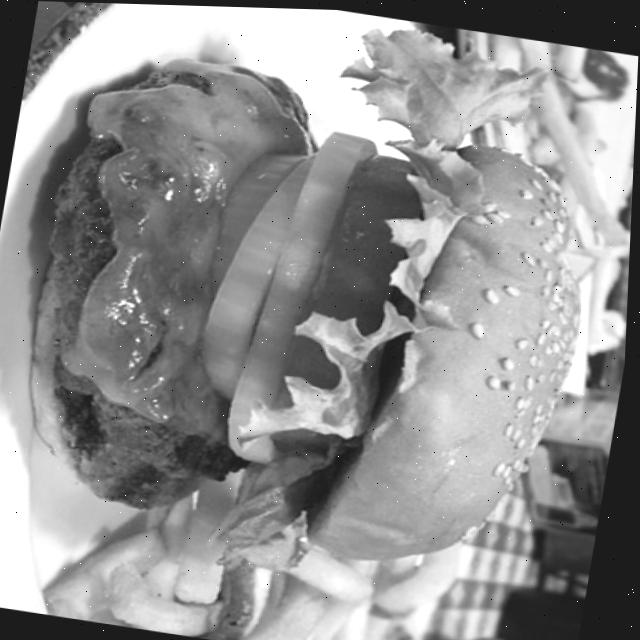汉堡快餐: (0, 30, 631, 589)
炸货点心: (54, 469, 493, 640), (436, 26, 639, 273)
